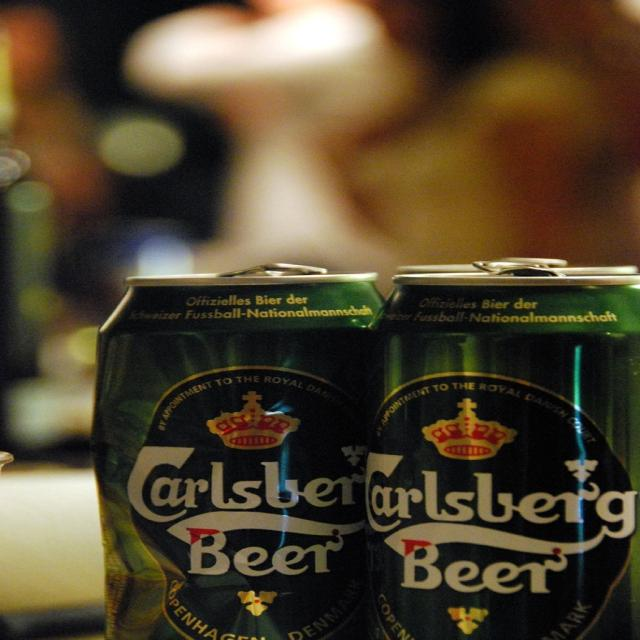carlsberg: (362, 372, 636, 640), (123, 366, 378, 640)
